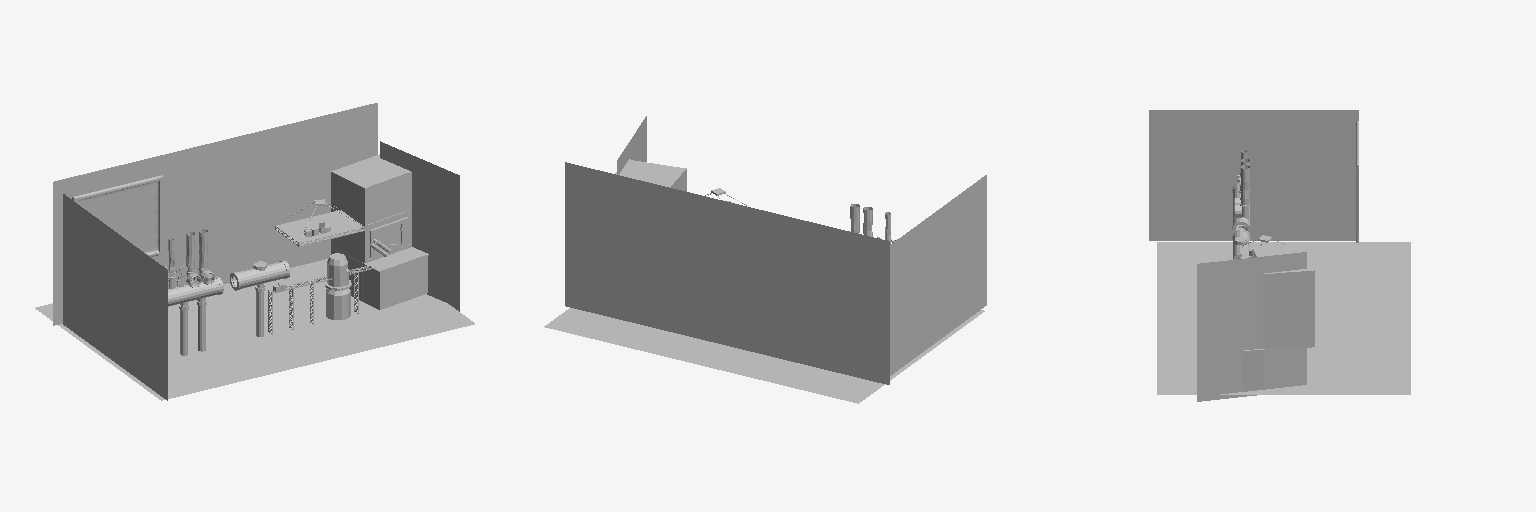
Rendered from 教學關.obj.
3 renders of one model, left to right at view 1: azimuth 30°, elevation 25°; view 2: azimuth 150°, elevation 25°; view 3: azimuth 270°, elevation 25°, orthographic.
Parts seen in each view (by area): view 1: Plane002, Plane003, Plane004, floor, wall, tube, Object013, jiguan; view 2: Plane002, Plane004, Plane003, floor, wall, tube; view 3: Plane004, Plane003, wall, floor, tube.
Boxes of the visible parts, box(x1,y1,x2,y2) form: Plane002: box(53, 103, 377, 325); Plane003: box(35, 259, 474, 400); Plane004: box(63, 194, 167, 400); floor: box(268, 154, 428, 334); wall: box(380, 141, 459, 311); tube: box(163, 229, 289, 355); Object013: box(72, 175, 163, 256); jiguan: box(370, 217, 408, 257); Plane002: box(565, 162, 889, 384); Plane004: box(890, 175, 986, 375); Plane003: box(544, 308, 984, 403); floor: box(615, 159, 748, 206); wall: box(617, 116, 646, 174); tube: box(850, 204, 897, 244); Plane004: box(1149, 110, 1358, 240); Plane003: box(1157, 242, 1410, 394); wall: box(1197, 252, 1306, 401); floor: box(1240, 235, 1314, 389); tube: box(1232, 150, 1250, 259).
Size of the model in its own units: 67475 by 33343 by 47121.